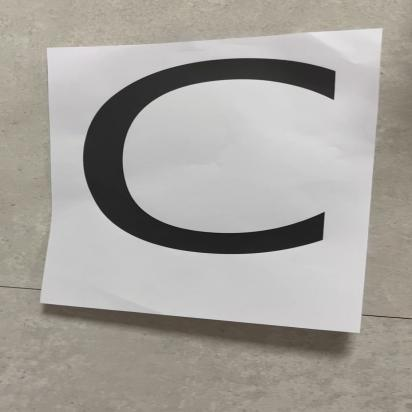seat: (62, 47, 370, 315)
